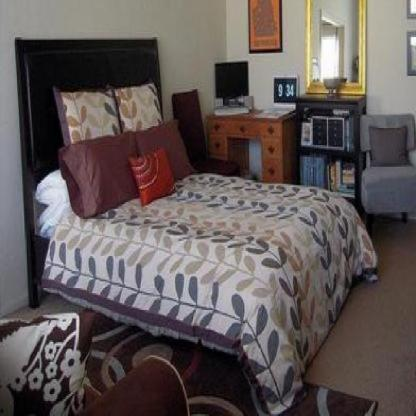Bed: (11, 32, 386, 410)
